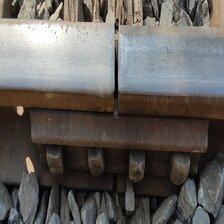railway-gap: (64, 8, 168, 119)
